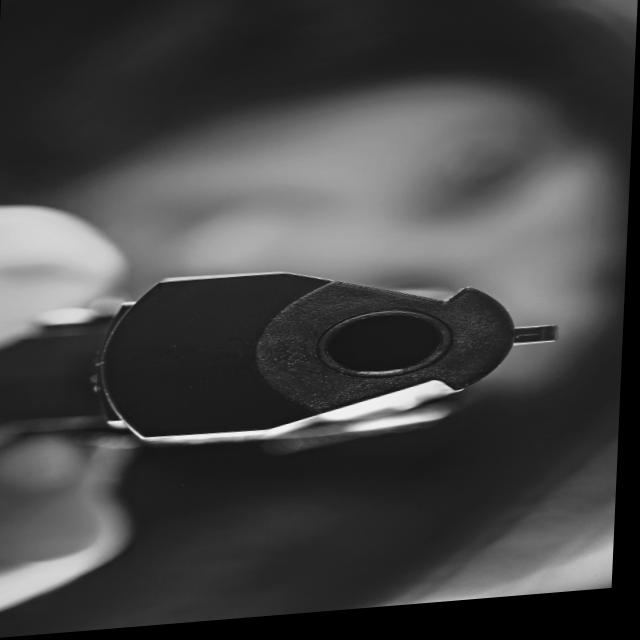handgun: (0, 259, 564, 463)
